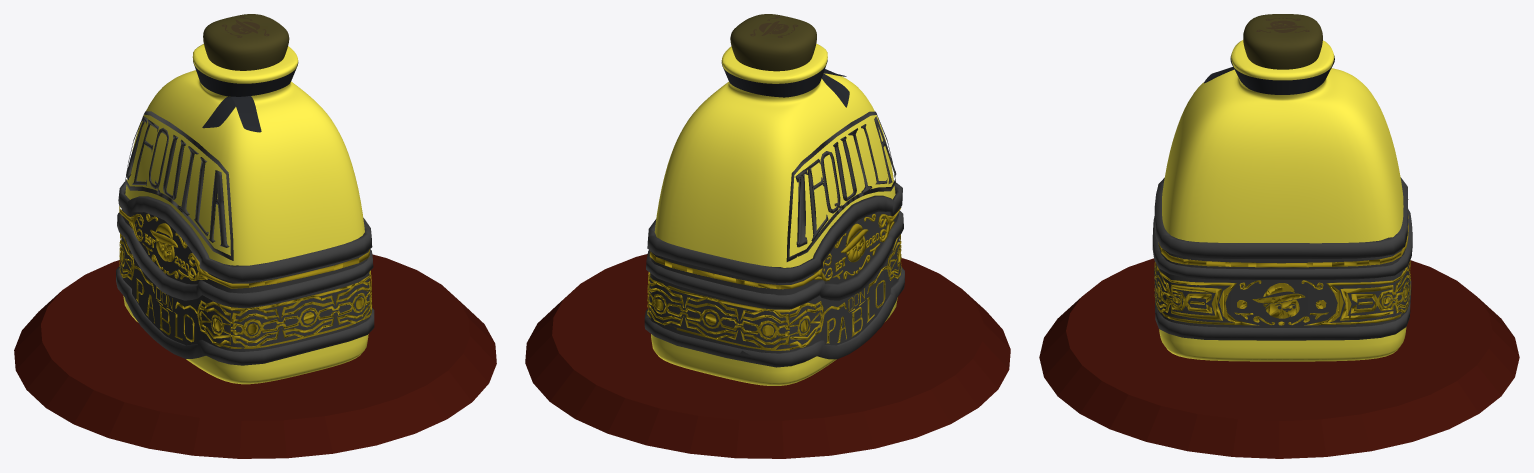
The model's file is tequila_don_pablo.glb.
The picture shows the model from 3 angles, left to right: view 1: azimuth 30°, elevation 25°; view 2: azimuth 150°, elevation 25°; view 3: azimuth 270°, elevation 25°; orthographic projection.
Visible parts, largest first — view 1: ground_0, Tequila_7, Plane.010_1, Cube.001_5, Plane.009_2, cork_10, Plane.001_4, Tequila.001_11, Cube_3; view 2: ground_0, Tequila_7, Plane.010_1, Cube.001_5, Plane.009_2, cork_10, Plane.001_4, Tequila.001_11, Cube_3; view 3: ground_0, Tequila_7, Plane.010_1, Cube.001_5, Plane.009_2, cork_10, Tequila.001_11.
Boxes of the visible parts, x1,y1,x2,y2 form: ground_0: (14, 254, 496, 458); Tequila_7: (123, 44, 368, 384); Plane.010_1: (116, 182, 374, 365); Cube.001_5: (120, 210, 370, 351); Plane.009_2: (119, 206, 372, 348); cork_10: (203, 14, 289, 70); Plane.001_4: (126, 116, 229, 247); Tequila.001_11: (193, 60, 298, 132); Cube_3: (125, 111, 233, 260); ground_0: (525, 254, 1010, 458); Tequila_7: (651, 43, 897, 385); Plane.010_1: (644, 182, 904, 367); Cube.001_5: (648, 211, 900, 358); Plane.009_2: (647, 207, 901, 350); cork_10: (730, 14, 816, 71); Plane.001_4: (795, 116, 896, 247); Tequila.001_11: (721, 60, 849, 107); Cube_3: (786, 111, 895, 261); ground_0: (1039, 258, 1519, 458); Tequila_7: (1159, 40, 1406, 361); Plane.010_1: (1152, 177, 1412, 340); Cube.001_5: (1155, 239, 1409, 327); Plane.009_2: (1154, 215, 1410, 325); cork_10: (1243, 14, 1322, 69); Tequila.001_11: (1204, 55, 1334, 94).
Bounding box in the file's own units: 6.69 × 5.03 × 6.69.
